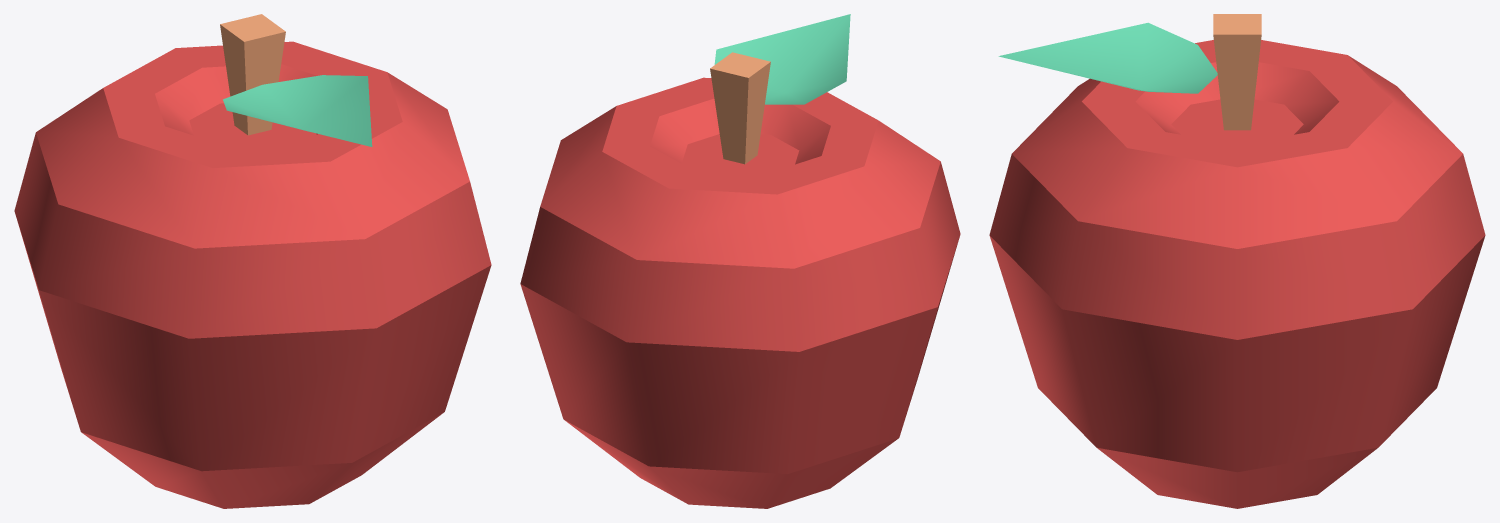
The model's file is apple.gltf.
3 renders of one model, left to right at view 1: azimuth 30°, elevation 25°; view 2: azimuth 150°, elevation 25°; view 3: azimuth 270°, elevation 25°, orthographic. The views are drawn at different scales.
Parts seen in each view (by area): view 1: apple; view 2: apple; view 3: apple.
Boxes of the visible parts, x1,y1,x2,y2 form: apple: [14, 14, 491, 508]; apple: [520, 14, 960, 508]; apple: [989, 14, 1485, 508].
Bounding box in the file's own units: 0.1963 × 0.1908 × 0.1963.
